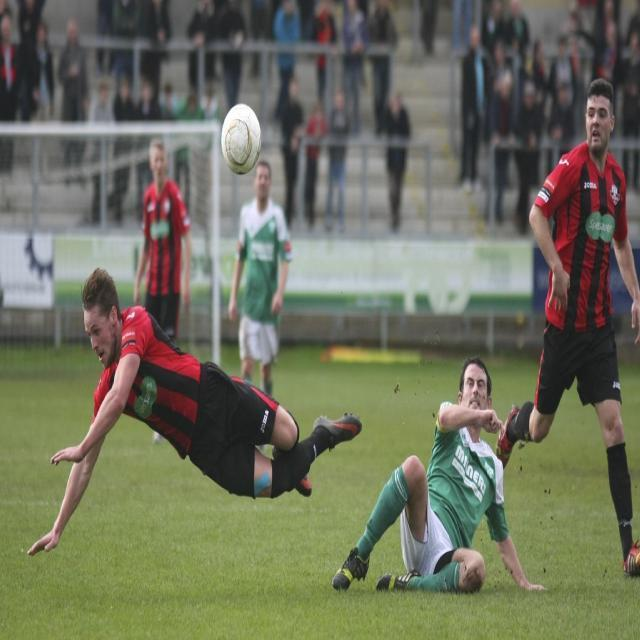football: (205, 99, 277, 181)
